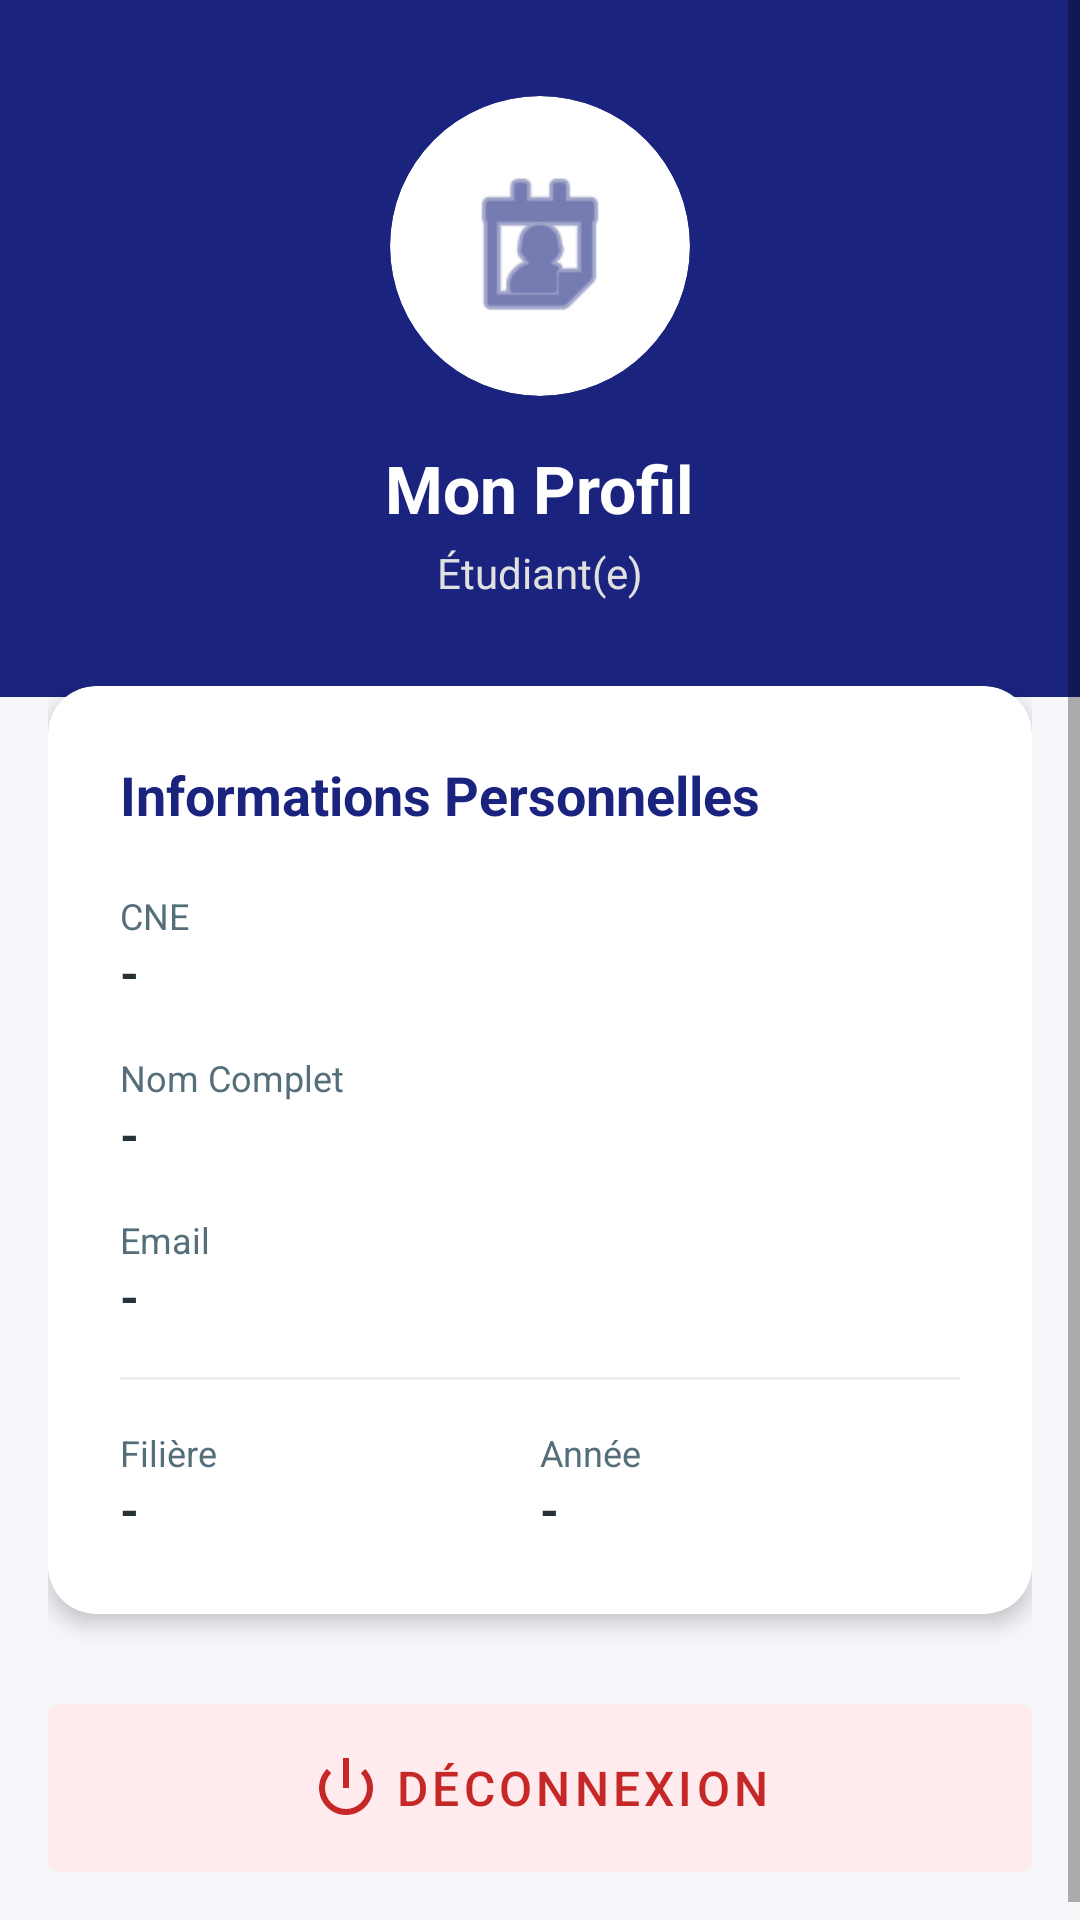

Icons on this 1080 × 1920 Android screen, each with the point to tap as (x=x, y=y):
calendar: (x=540, y=246)
